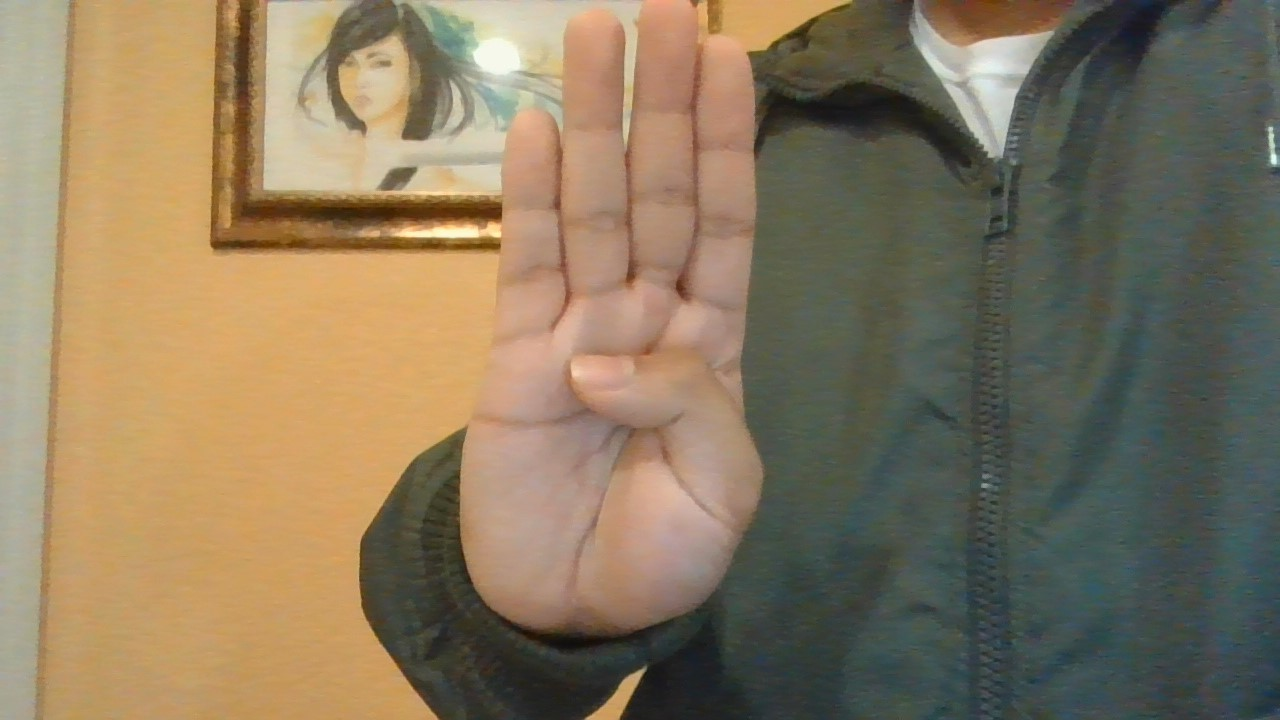b: (432, 4, 773, 638)
